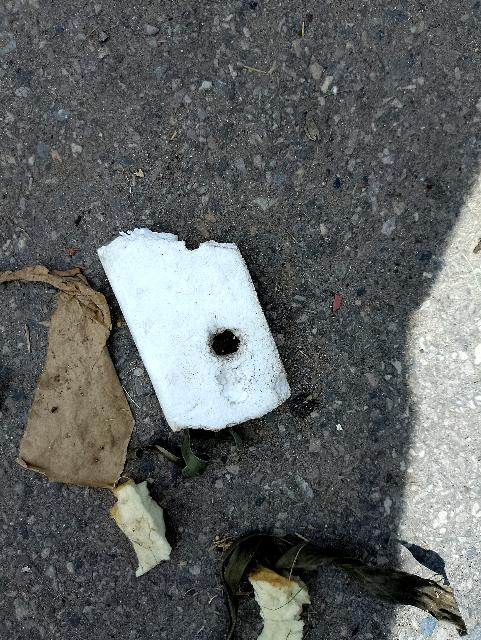cocksheet: (94, 204, 290, 449)
